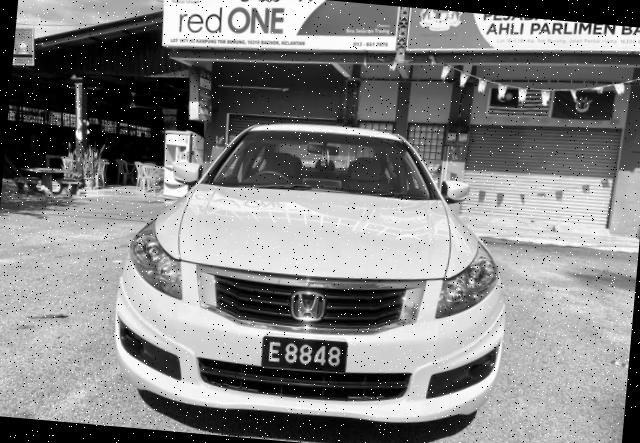License_Plate: (261, 337, 352, 375)
car: (105, 108, 524, 437)
